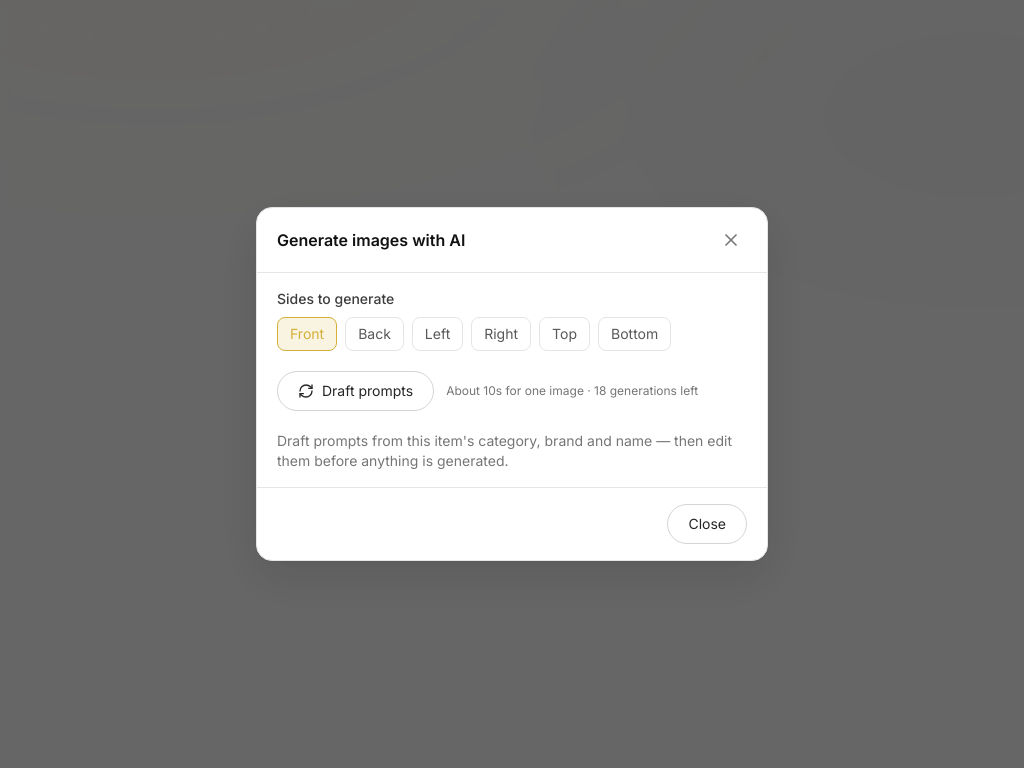
it: AI image studio › drafts a prompt from the product context
The width and height of the screenshot is (1024, 768).
Click the button "Draft prompts" at (356, 391), box [277,371,434,411]
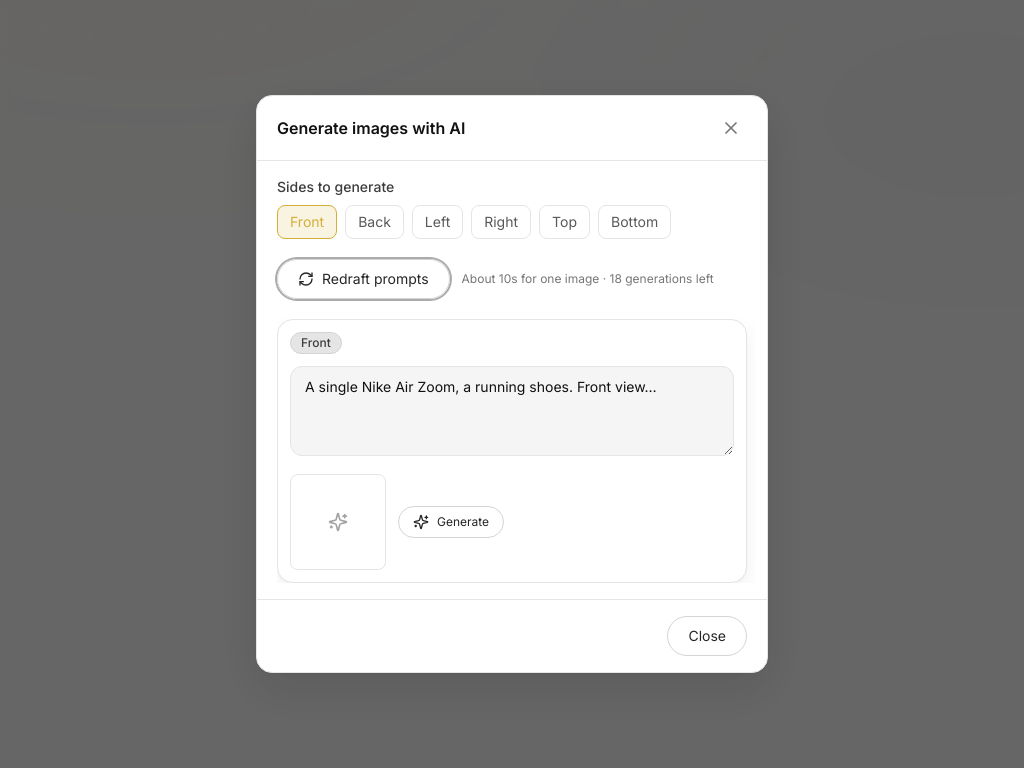
Expected: the text box showing "Nike Air Zoom" is shown, [290,366,734,456]
